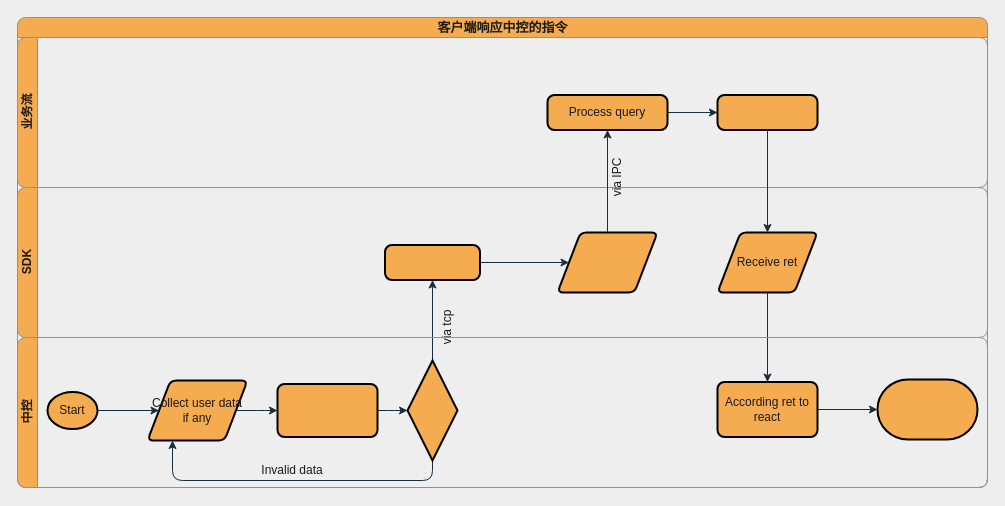
This 1005x506 diagram has some shape labels left out. Each missing label, with the centre of its shape:
End: point 927,409
Process data: point 607,262
Return result: point 767,112
Valid data: point 327,410
Valid header & parse data: point 432,262
